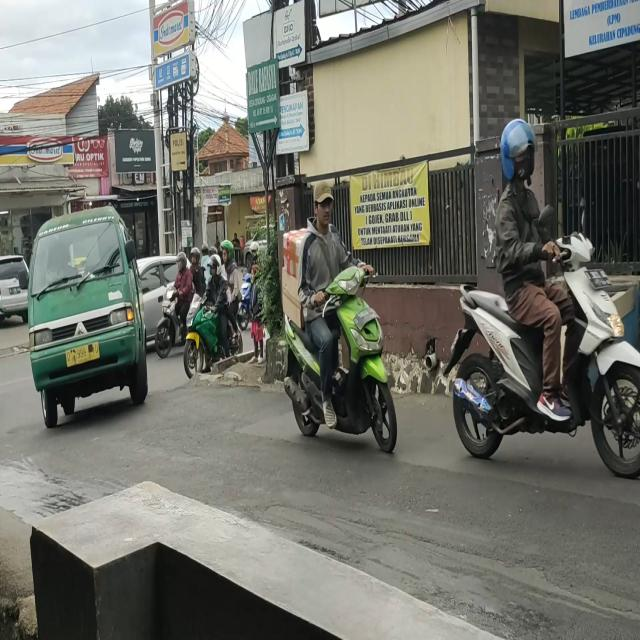helmet: (500, 116, 537, 185), (222, 241, 235, 264), (208, 256, 221, 274), (190, 247, 200, 268), (177, 253, 188, 270)
no-helmet: (314, 180, 334, 222)
